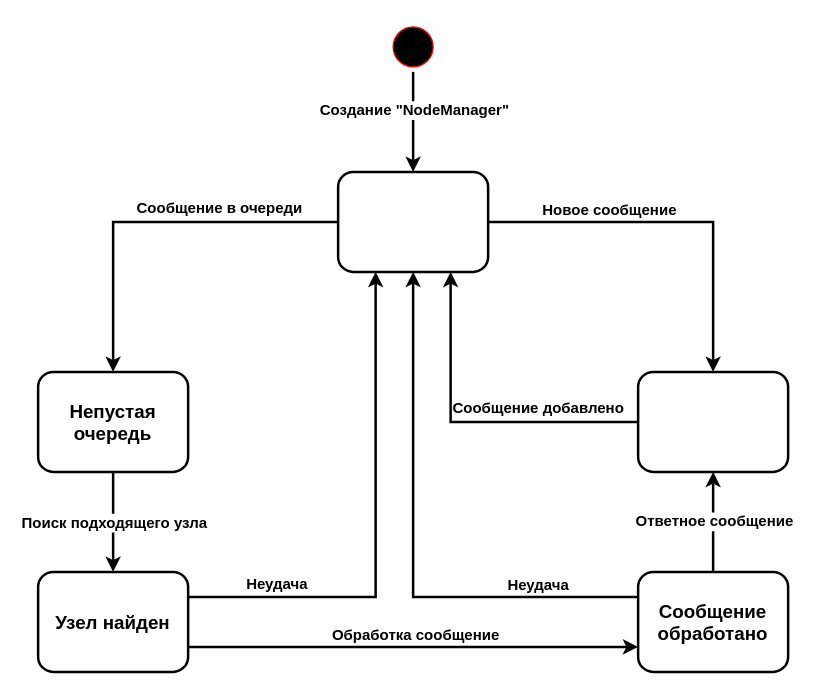
Some shapes in this 814 by 695 pixel diagram are drawn without their labels. The centre of each missing label's shape, as x and y in pixels:
Добавление в очередь: the point at 712,421
Ожидает сообщение: the point at 412,221
